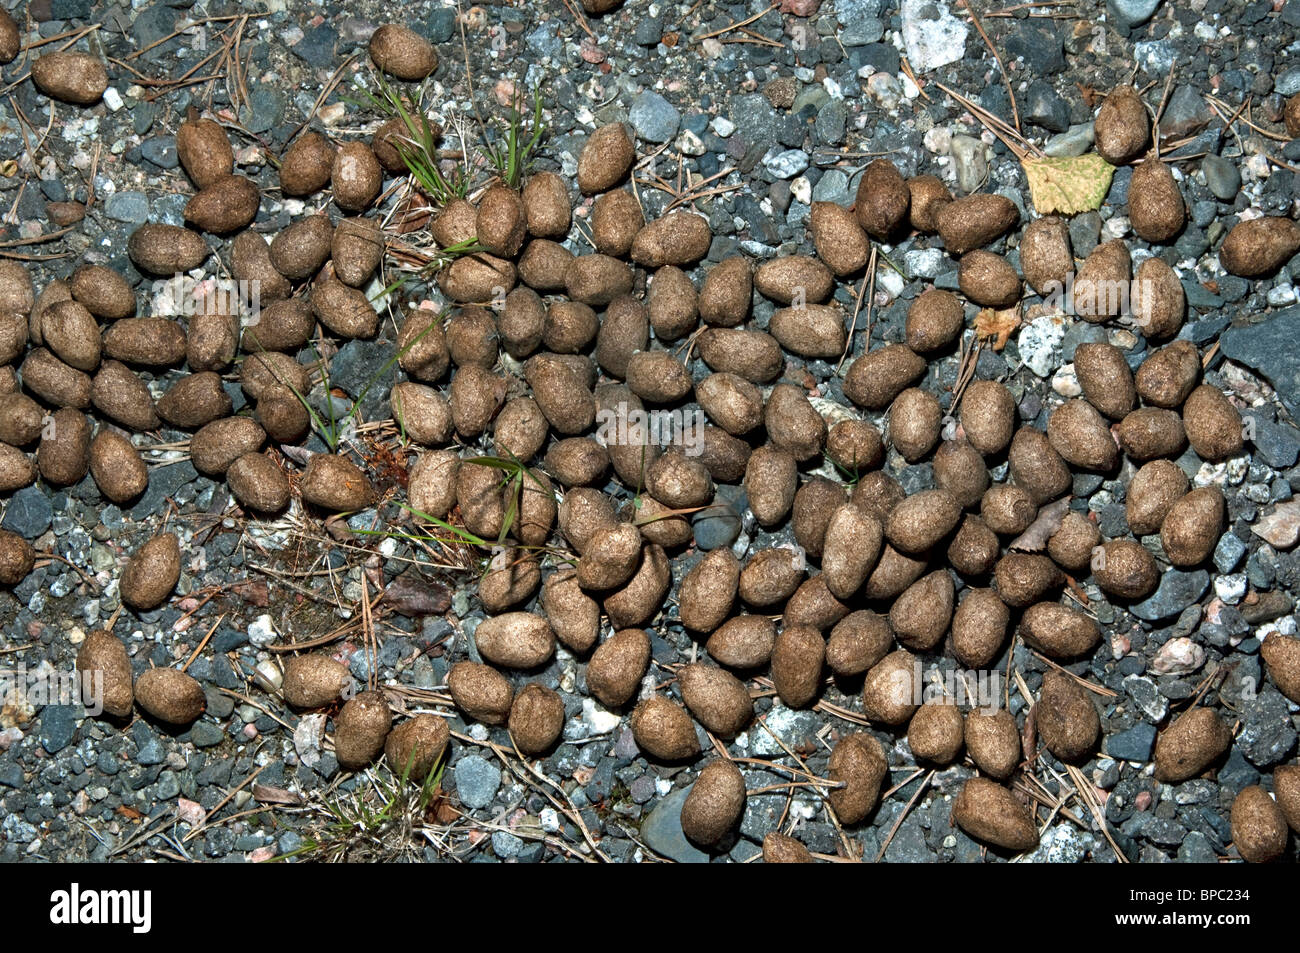Elk: (4, 233, 1104, 767)
